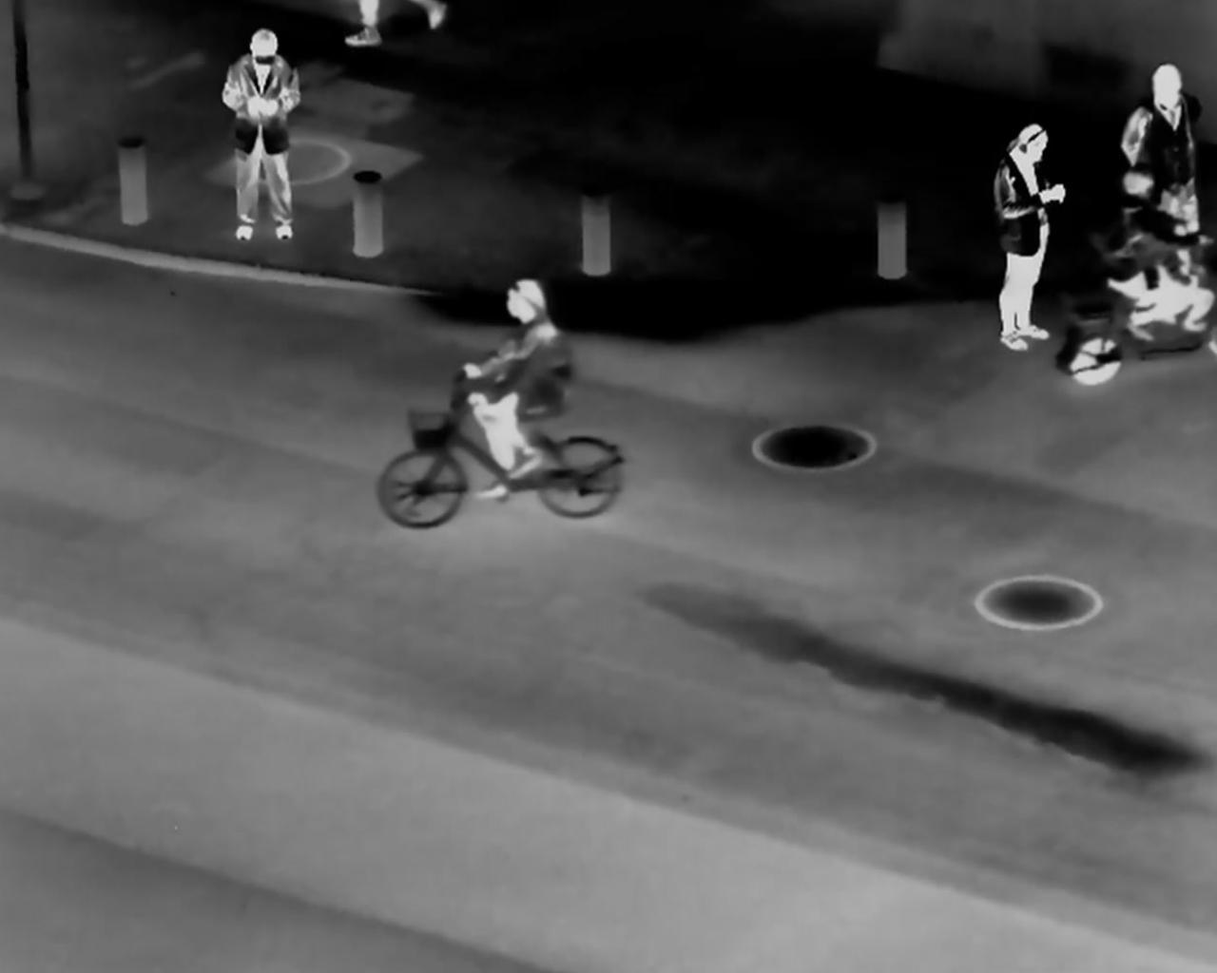person: (445, 264, 570, 507), (976, 111, 1069, 363), (1092, 162, 1208, 361), (218, 25, 303, 247), (1125, 52, 1204, 229)
